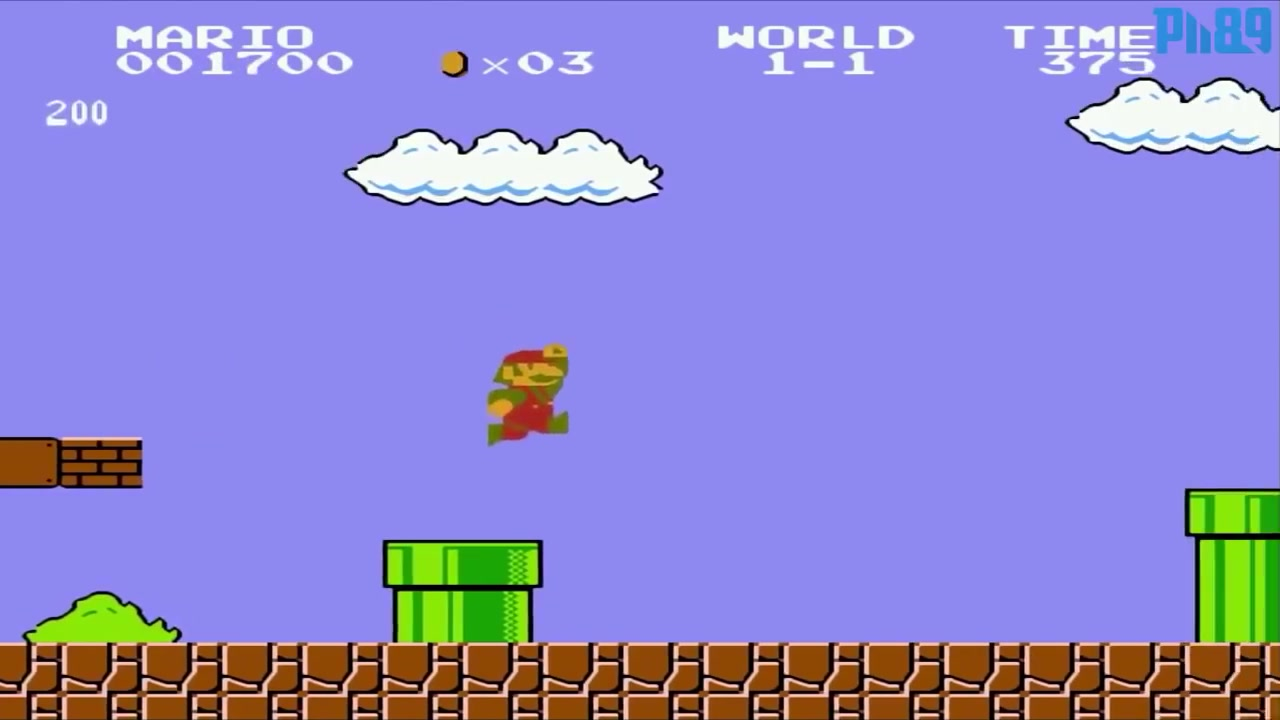mario: (474, 335, 579, 448)
